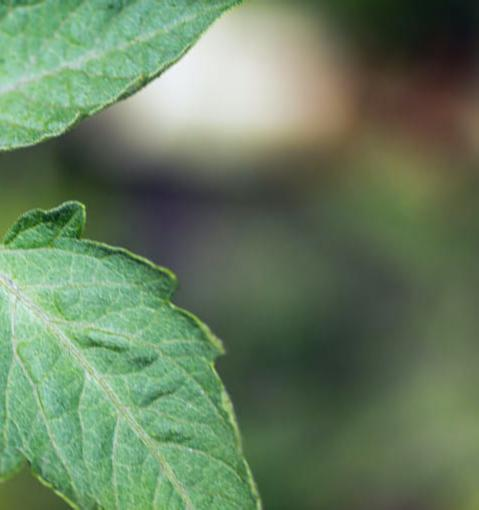Tomato leaf: (0, 206, 344, 510), (0, 0, 318, 160)
